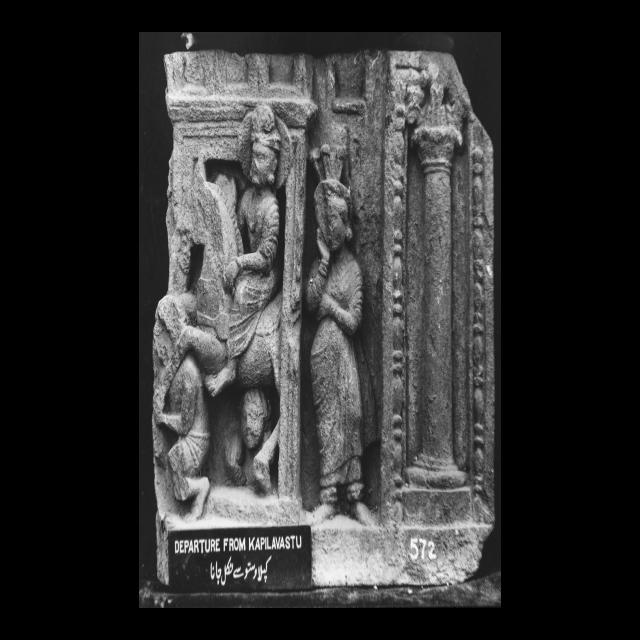buddha-horse-riding: (153, 104, 294, 490), (252, 422, 280, 493)
